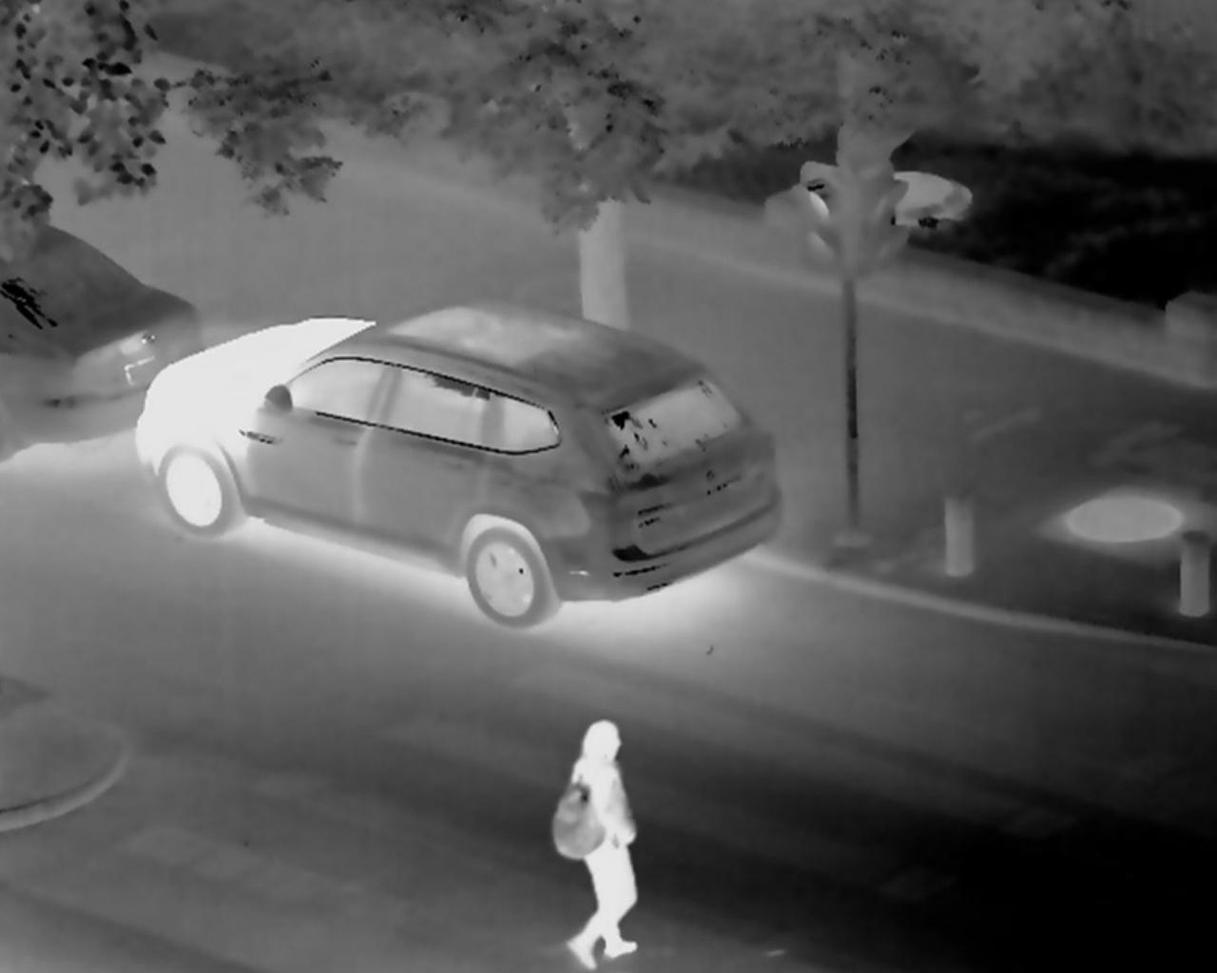person: (550, 718, 638, 969)
